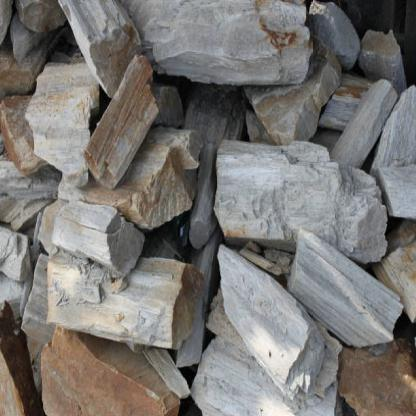Sedimentary_Limestone: (214, 123, 394, 263), (67, 42, 170, 211), (190, 244, 312, 380), (296, 228, 408, 366), (35, 244, 180, 350), (24, 327, 178, 415)
